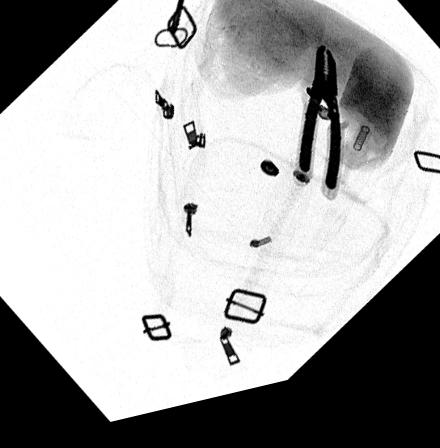Pliers: (298, 58, 340, 208)
